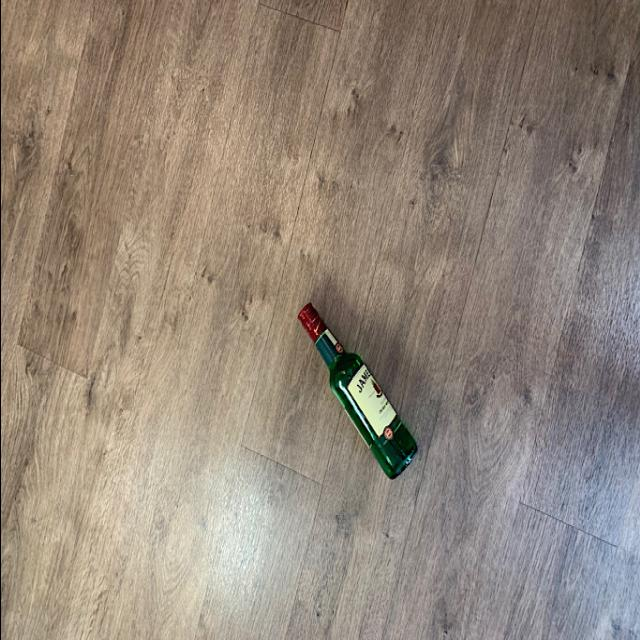litter: (294, 301, 416, 485)
